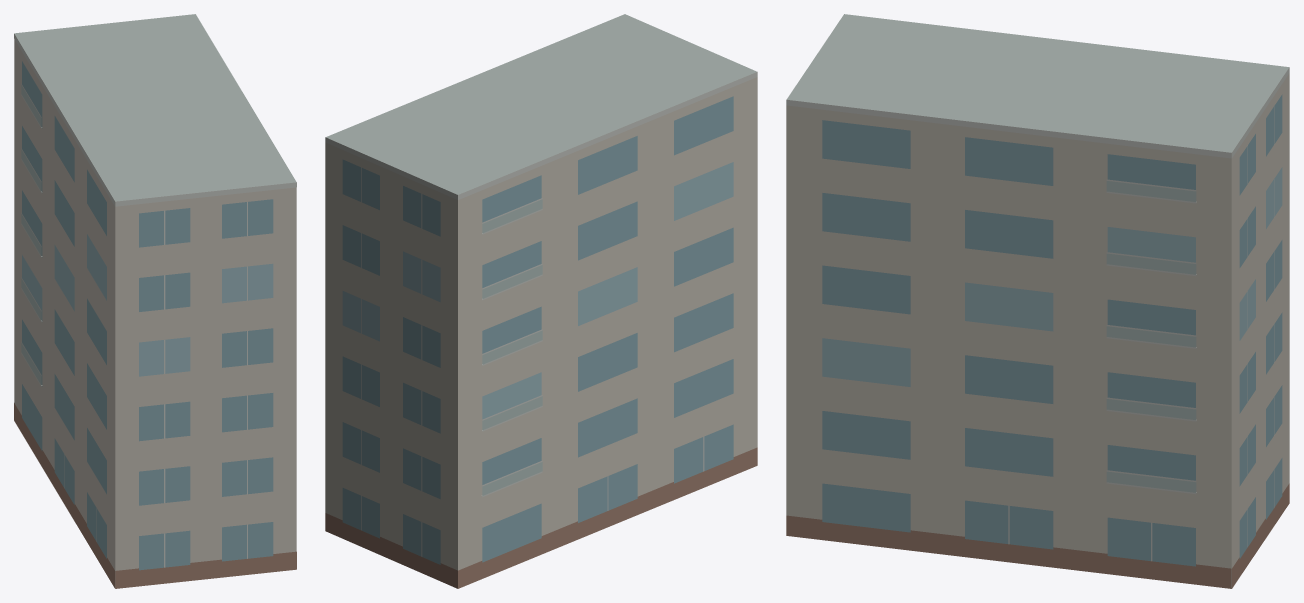
The model's file is survey-upis-32754459.glb.
The picture shows the model from 3 angles, left to right: view 1: azimuth 30°, elevation 25°; view 2: azimuth 150°, elevation 25°; view 3: azimuth 270°, elevation 25°; orthographic projection. The views are drawn at different scales.
Parts seen in each view (by area): view 1: survey-upis-32754459.tmp; view 2: survey-upis-32754459.tmp; view 3: survey-upis-32754459.tmp.
Part boxes in pixels (left/top/right/bottom): survey-upis-32754459.tmp: left=14, top=14, right=296, bottom=588; survey-upis-32754459.tmp: left=325, top=14, right=757, bottom=588; survey-upis-32754459.tmp: left=786, top=14, right=1289, bottom=588.
Bounding box in the file's own units: 12.71 × 18.6 × 19.46.
